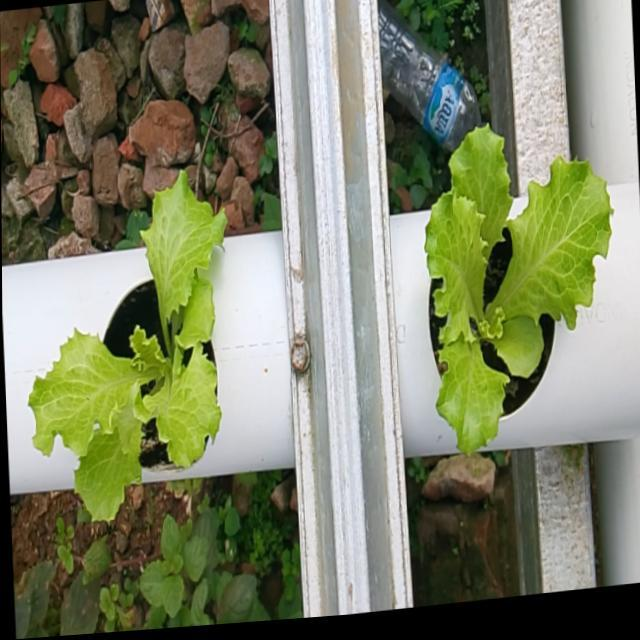Baby: (22, 179, 222, 530), (420, 131, 609, 464)
